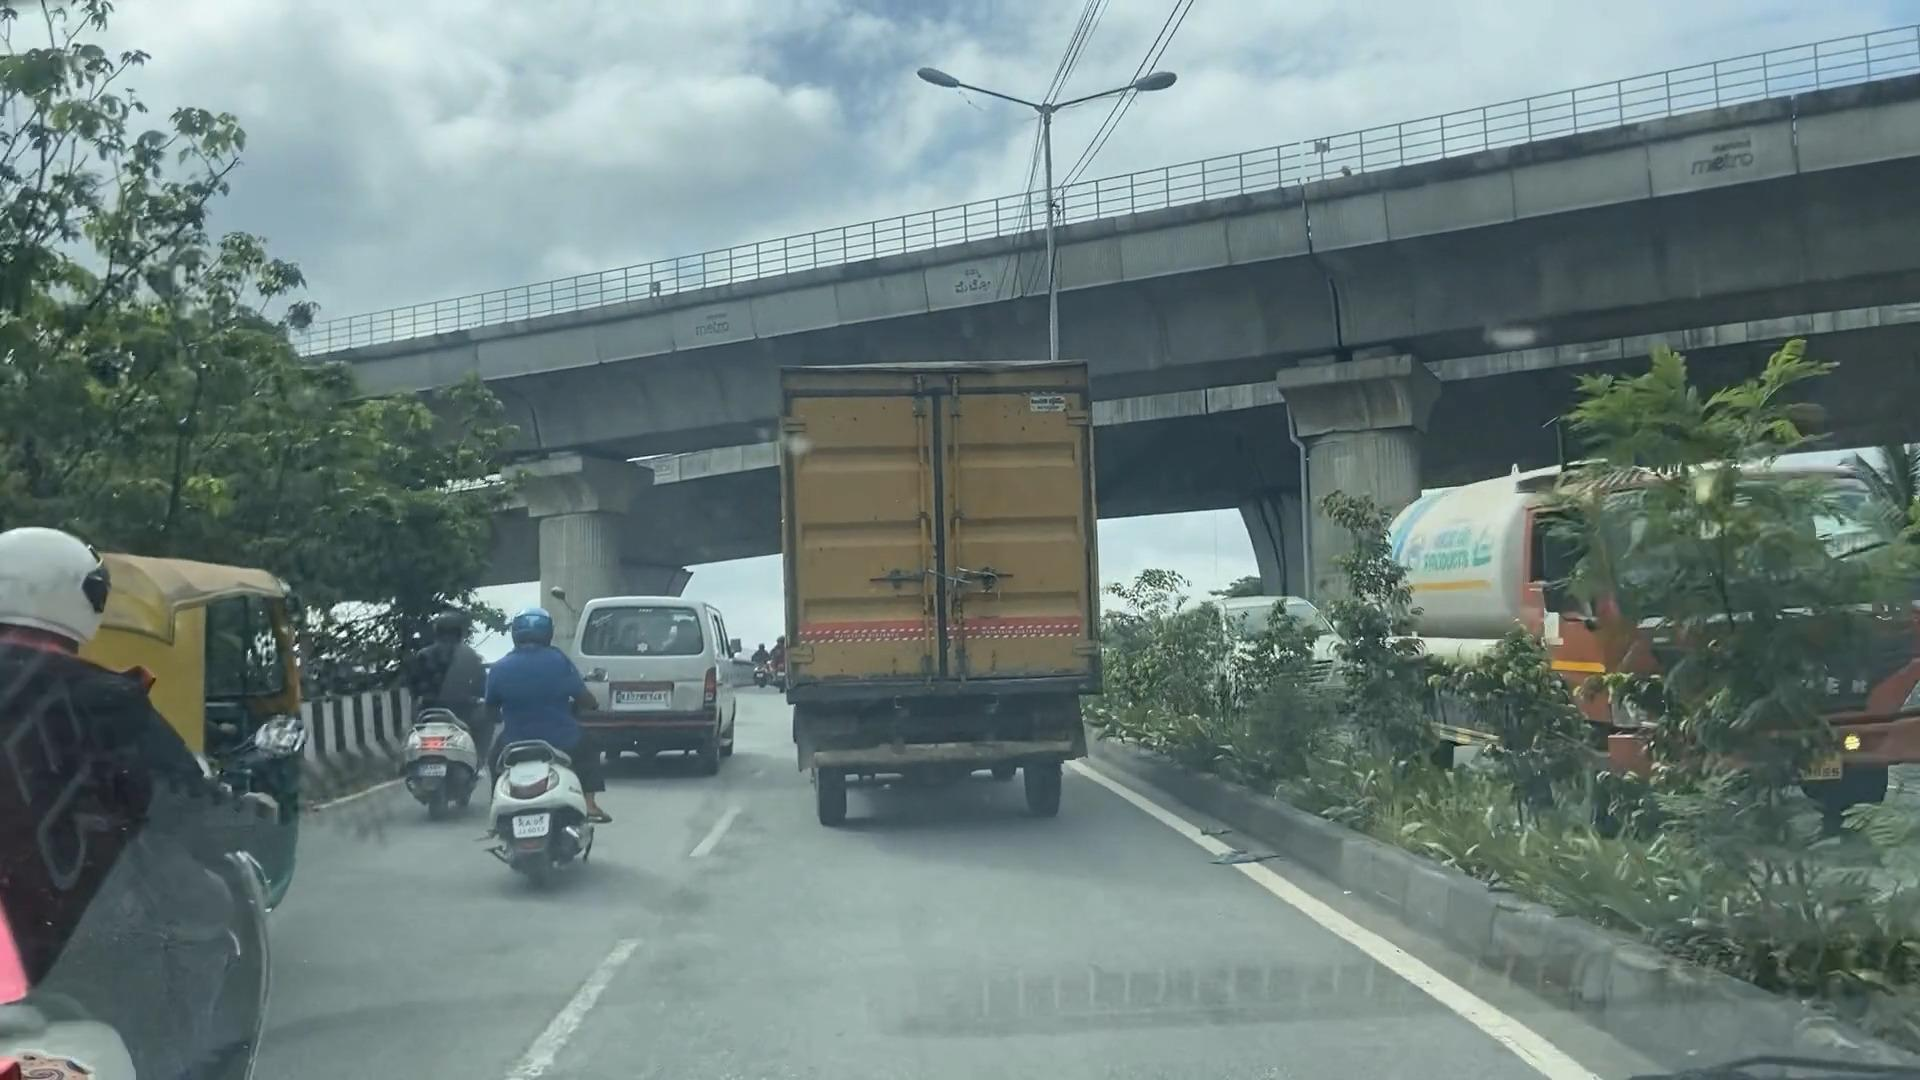HMV: (781, 373, 1105, 841)
LMV: (467, 604, 601, 873)
